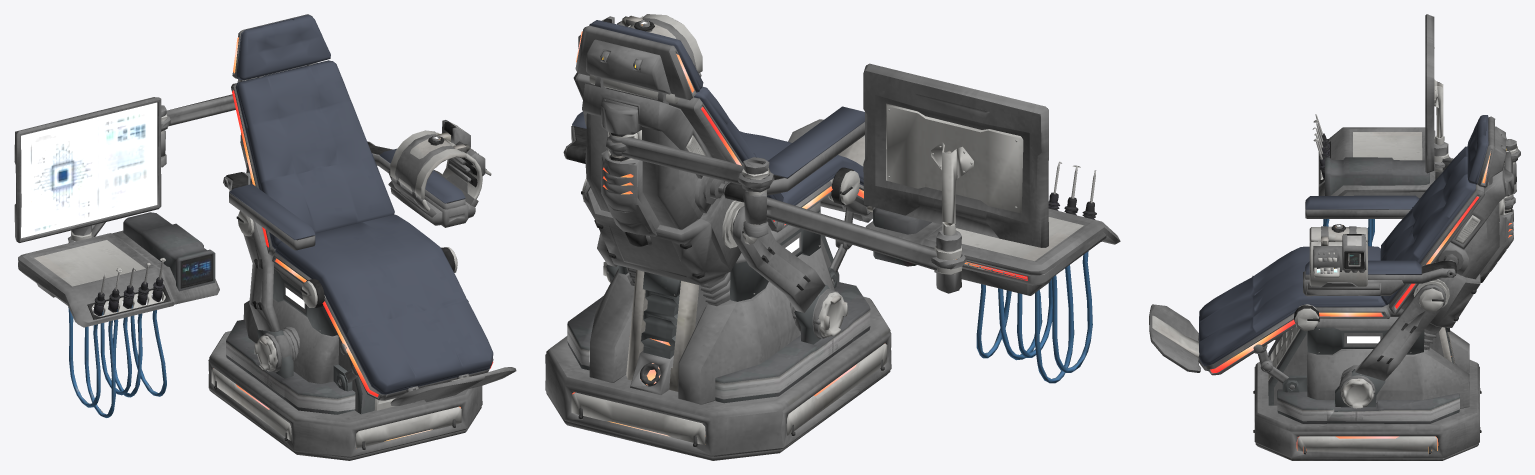
File: cargo_surgical_chair.glb
The picture shows the model from 3 angles, left to right: view 1: azimuth 30°, elevation 25°; view 2: azimuth 150°, elevation 25°; view 3: azimuth 270°, elevation 25°; orthographic projection. The views are drawn at different scales.
Parts seen in each view (by area): view 1: KB3D_CPI_AssemblySurgicalChair_A_Chair_A, KB3D_CPI_AssemblySurgicalChair_A_Monitor, KB3D_CPI_AssemblySurgicalChair_A_Arm_A; view 2: KB3D_CPI_AssemblySurgicalChair_A_Chair_A, KB3D_CPI_AssemblySurgicalChair_A_Monitor, KB3D_CPI_AssemblySurgicalChair_A_Arm_A; view 3: KB3D_CPI_AssemblySurgicalChair_A_Chair_A, KB3D_CPI_AssemblySurgicalChair_A_Monitor, KB3D_CPI_AssemblySurgicalChair_A_Arm_A.
Boxes of the visible parts, x1,y1,x2,y2 form: KB3D_CPI_AssemblySurgicalChair_A_Chair_A: [208, 14, 516, 460]; KB3D_CPI_AssemblySurgicalChair_A_Monitor: [14, 97, 219, 417]; KB3D_CPI_AssemblySurgicalChair_A_Arm_A: [68, 94, 235, 243]; KB3D_CPI_AssemblySurgicalChair_A_Chair_A: [545, 14, 891, 460]; KB3D_CPI_AssemblySurgicalChair_A_Monitor: [863, 63, 1120, 383]; KB3D_CPI_AssemblySurgicalChair_A_Arm_A: [606, 133, 965, 293]; KB3D_CPI_AssemblySurgicalChair_A_Chair_A: [1149, 115, 1514, 460]; KB3D_CPI_AssemblySurgicalChair_A_Monitor: [1312, 14, 1443, 246]; KB3D_CPI_AssemblySurgicalChair_A_Arm_A: [1434, 85, 1520, 213].
Size of the model in its own units: 1.8 by 1.38 by 1.59.
Materials: 10 (10 with a texture image).
